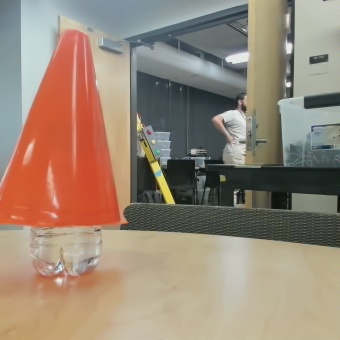Cone: (1, 27, 124, 220)
